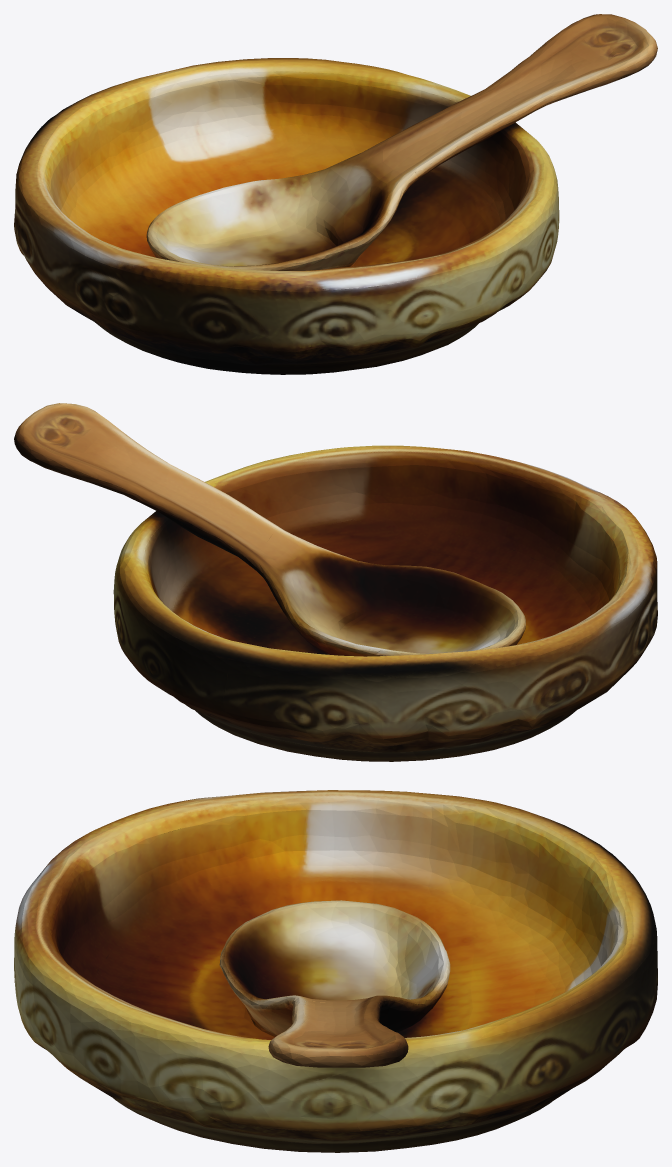
File: ceramic-spoon-rest-rustic.jpeg.glb
3 renders of one model, top to bottom at view 1: azimuth 30°, elevation 25°; view 2: azimuth 150°, elevation 25°; view 3: azimuth 270°, elevation 25°, orthographic. The views are drawn at different scales.
Visible parts, largest first — view 1: world; view 2: world; view 3: world.
Boxes of the visible parts, x1,y1,x2,y2 form: world: [14, 14, 657, 374]; world: [14, 403, 657, 761]; world: [14, 790, 657, 1152].
Bounding box in the file's own units: 1 × 0.2861 × 0.8087.
Materials: 1 (1 with a texture image).
